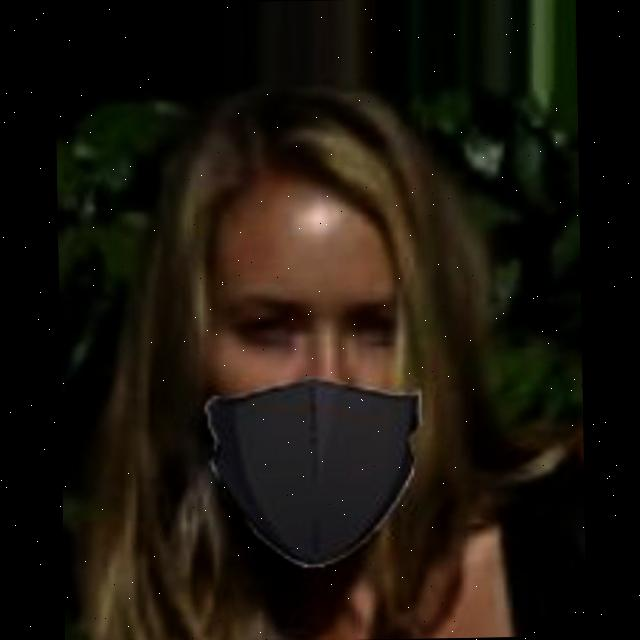suspicion: (172, 166, 432, 563)
